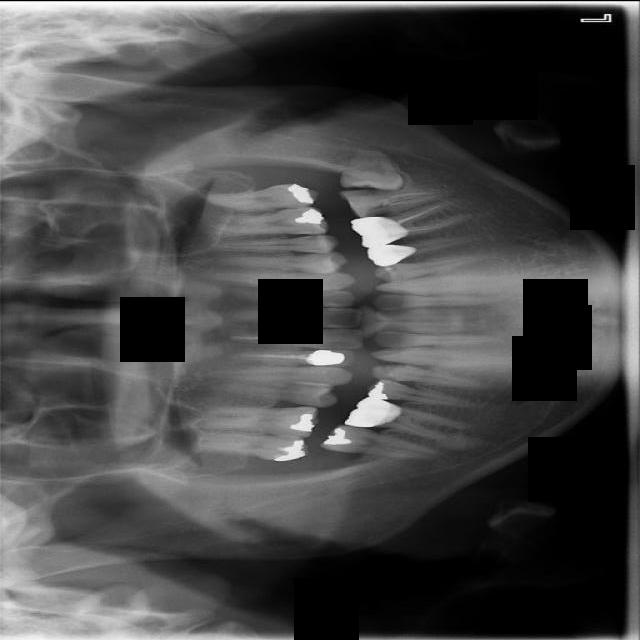52: (350, 212, 410, 249), (345, 395, 403, 428), (260, 406, 320, 437), (270, 205, 329, 234), (319, 422, 370, 454), (339, 188, 391, 217), (248, 434, 308, 459), (266, 182, 320, 208), (367, 243, 417, 266), (367, 377, 404, 400), (305, 349, 355, 366)
73: (383, 197, 462, 243), (228, 327, 325, 348), (378, 187, 449, 211), (240, 349, 316, 366), (587, 26, 593, 32)
BioHorizons Implant: (205, 182, 320, 211)
Biomet 3i Implant: (339, 147, 405, 191)
Blue Sky Bio Implant: (339, 185, 449, 218)
Caries: (192, 430, 309, 461)
Implant: (320, 422, 442, 463)
